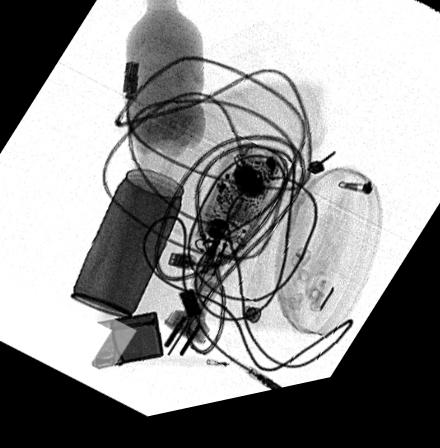Lighter: (85, 318, 164, 374)
